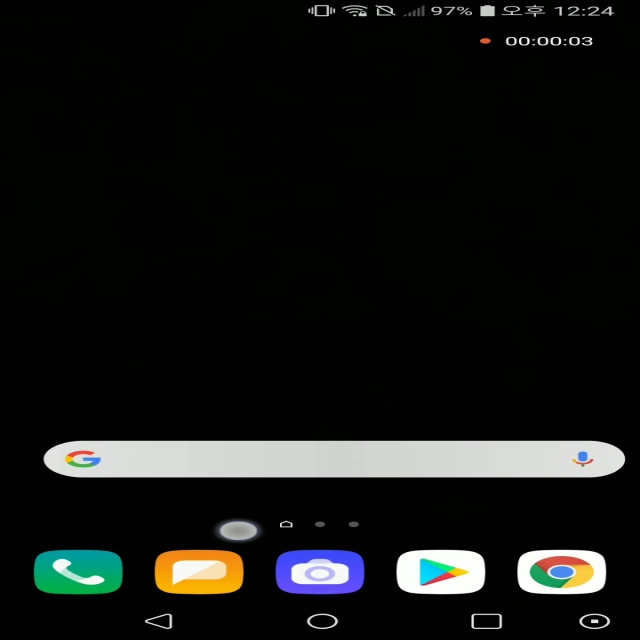Cursor: (216, 520, 261, 542)
